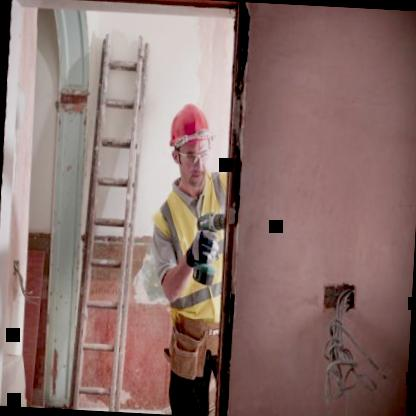helmet: (161, 97, 217, 195)
